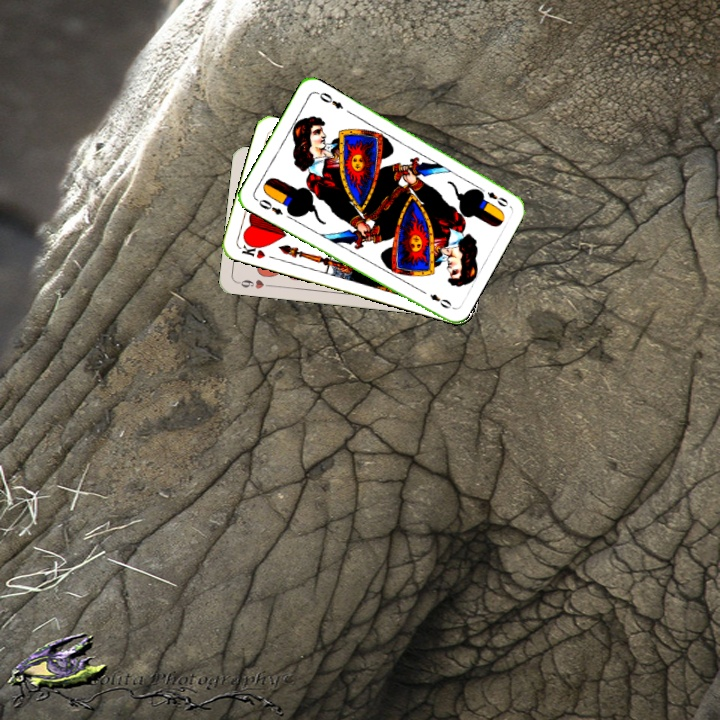EO: (474, 183, 511, 210), (252, 195, 285, 218)
H9: (233, 276, 274, 291)
HK: (236, 237, 268, 261)
